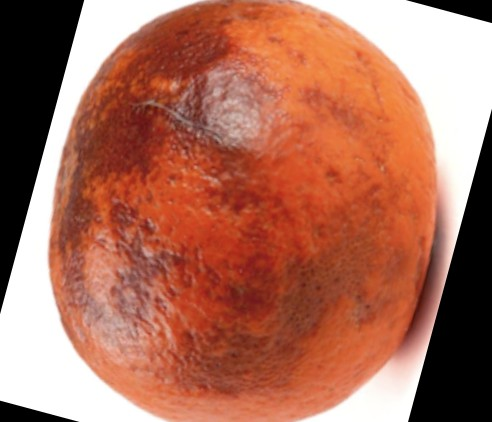rotten_orange: (50, 1, 440, 422)
